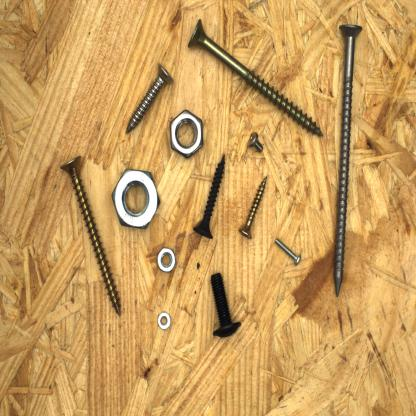screw: (184, 16, 326, 140), (58, 152, 124, 319), (328, 22, 364, 300), (123, 59, 176, 137), (191, 152, 227, 241), (206, 270, 244, 341), (236, 173, 269, 242), (273, 234, 304, 268), (245, 131, 267, 154)
